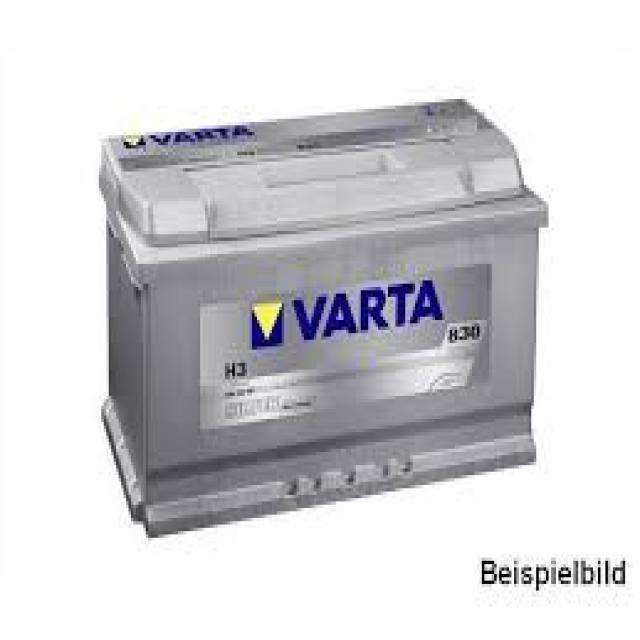Battery: (60, 95, 595, 548)
